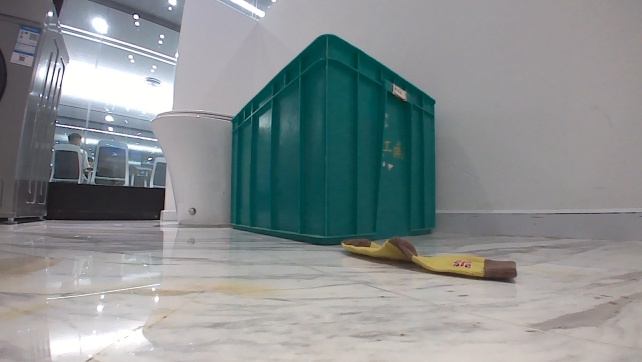socks: (340, 235, 520, 283)
toilet: (147, 105, 236, 228)
washing_machine1: (0, 0, 71, 224)
